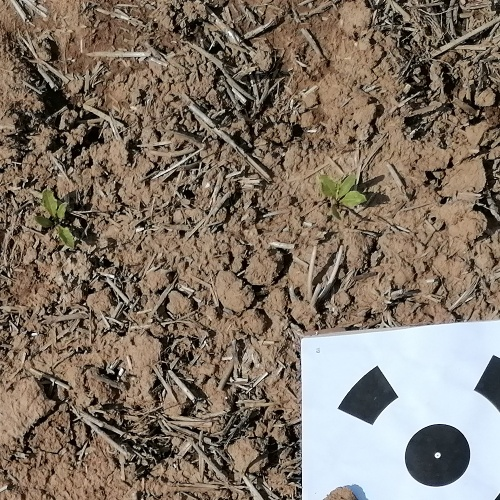beet: (36, 190, 77, 250), (319, 173, 364, 220)
